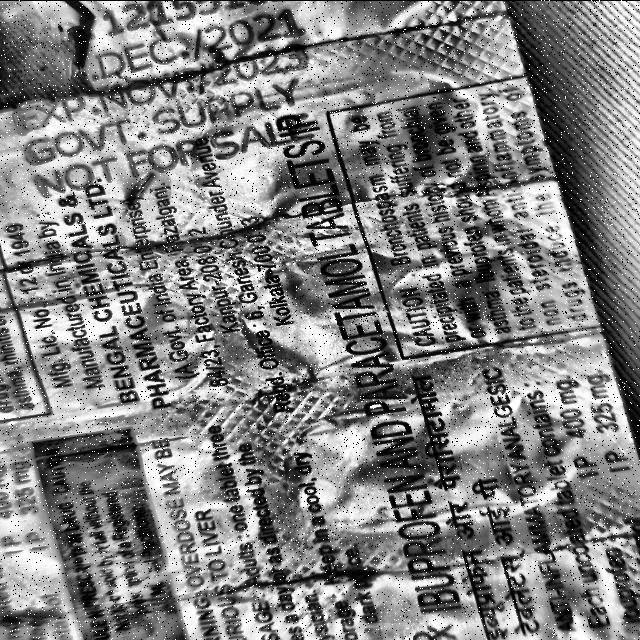IBUPROFEN AND PARACETAMOL TABLETS: (258, 114, 489, 622)
